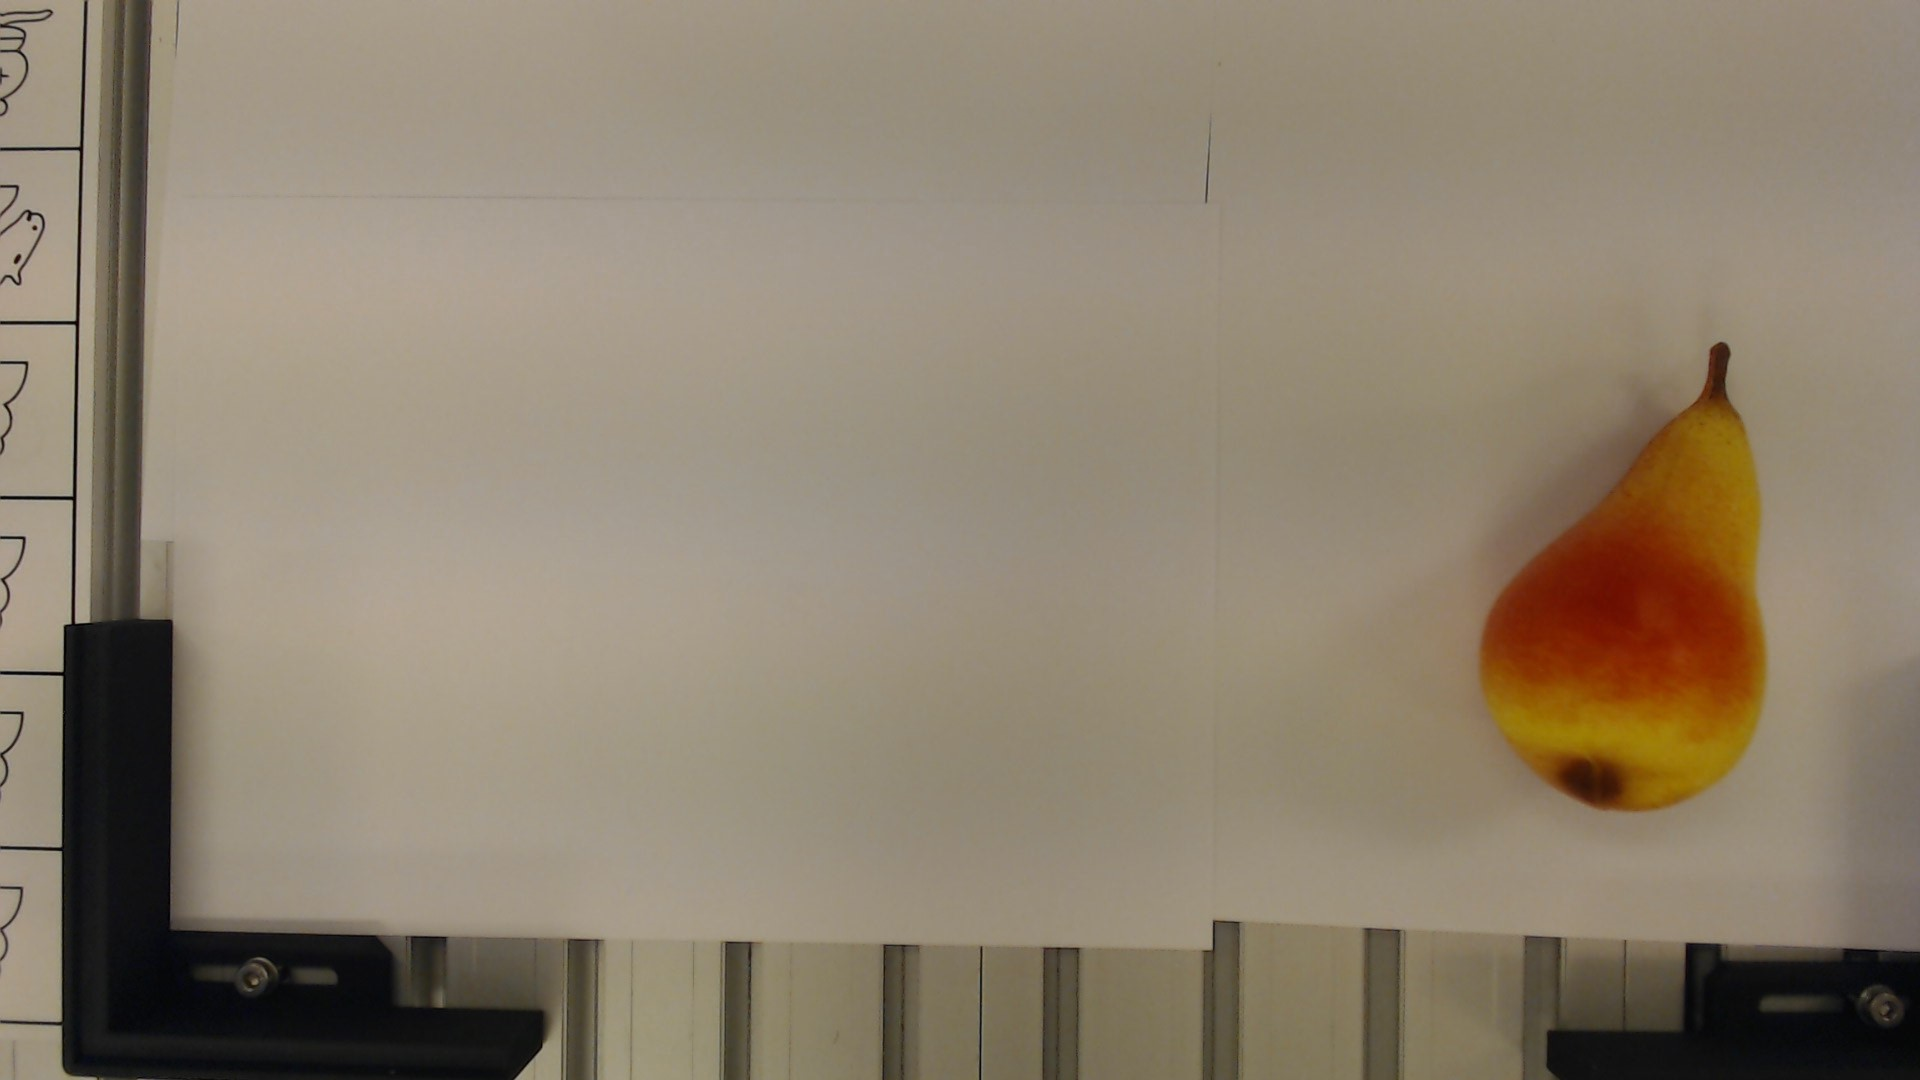Pear: (1477, 323, 1774, 814)
